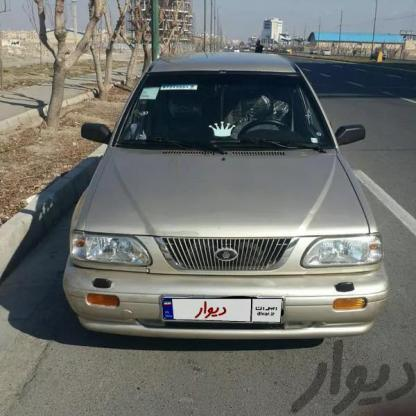Car: (63, 50, 390, 360)
